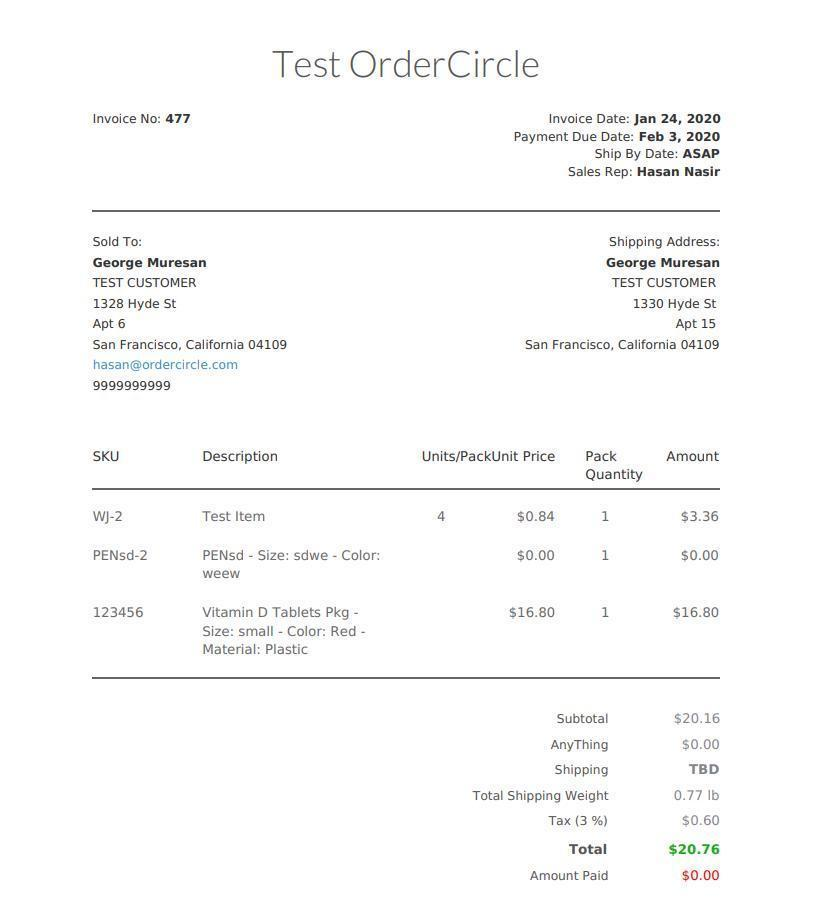ROI: (73, 428, 739, 672), (462, 695, 740, 892), (75, 221, 296, 402), (519, 221, 729, 365), (509, 101, 742, 187), (265, 34, 549, 90), (89, 101, 197, 136)
